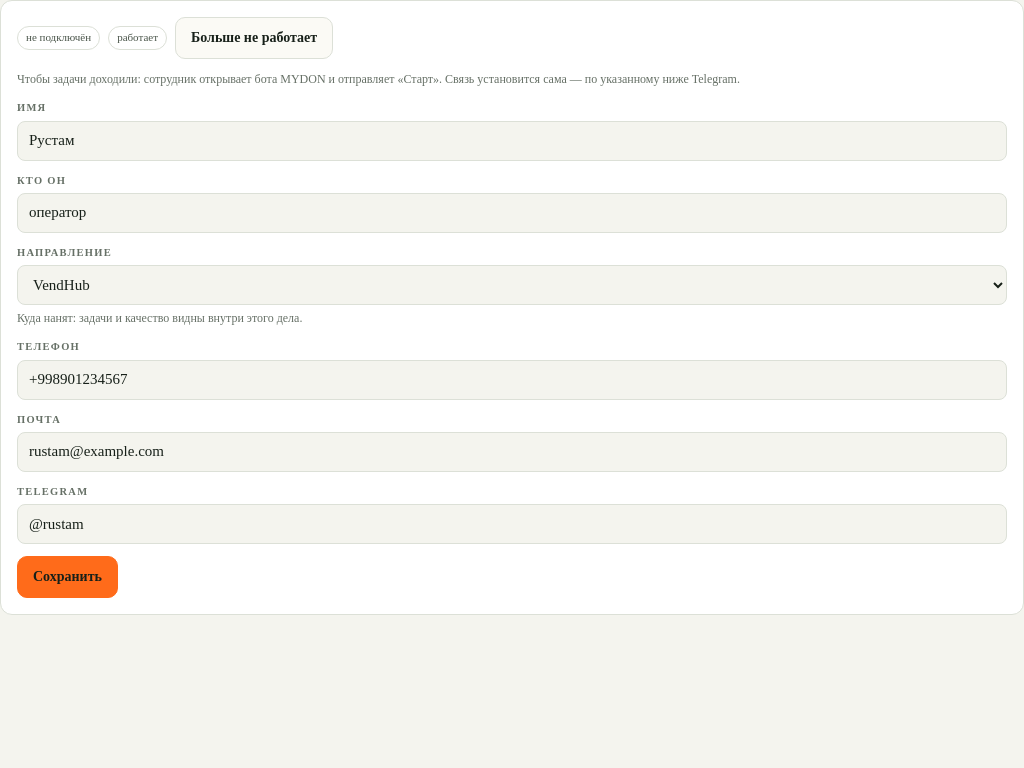
Test: формы сотрудников › показывает ошибку переключения рабочего статуса
Click the button "Больше не работает".
click(254, 38)  # box [175,17,333,59]
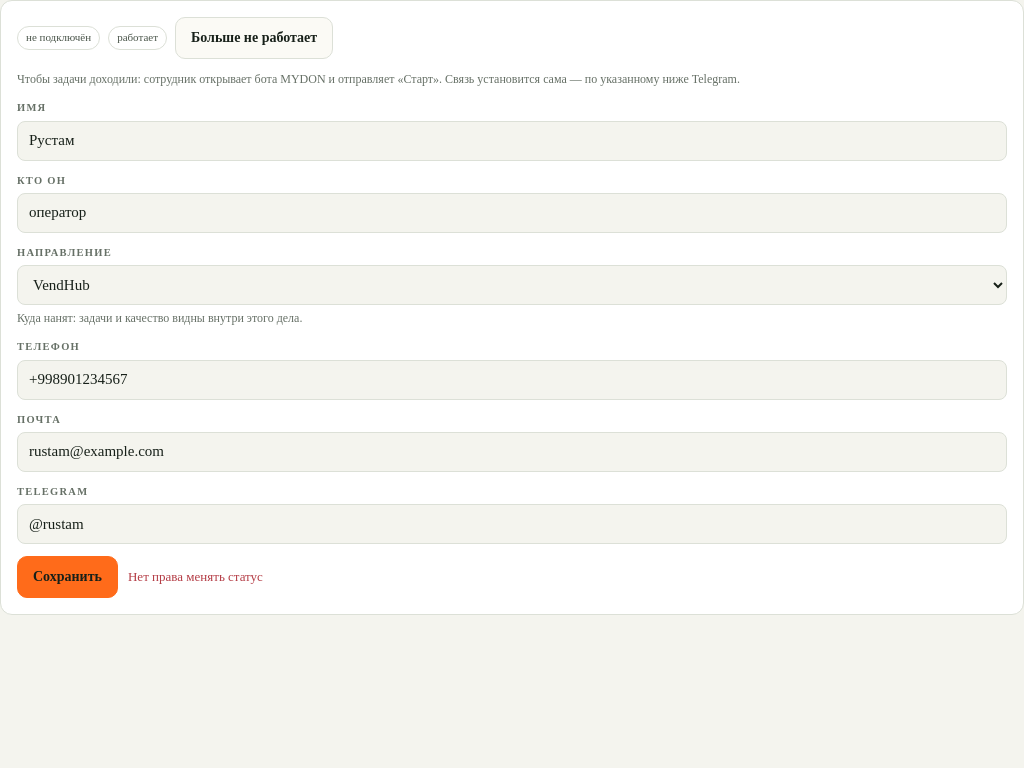
Now the text "Нет права менять статус" is shown, box [128,568,263,586]
